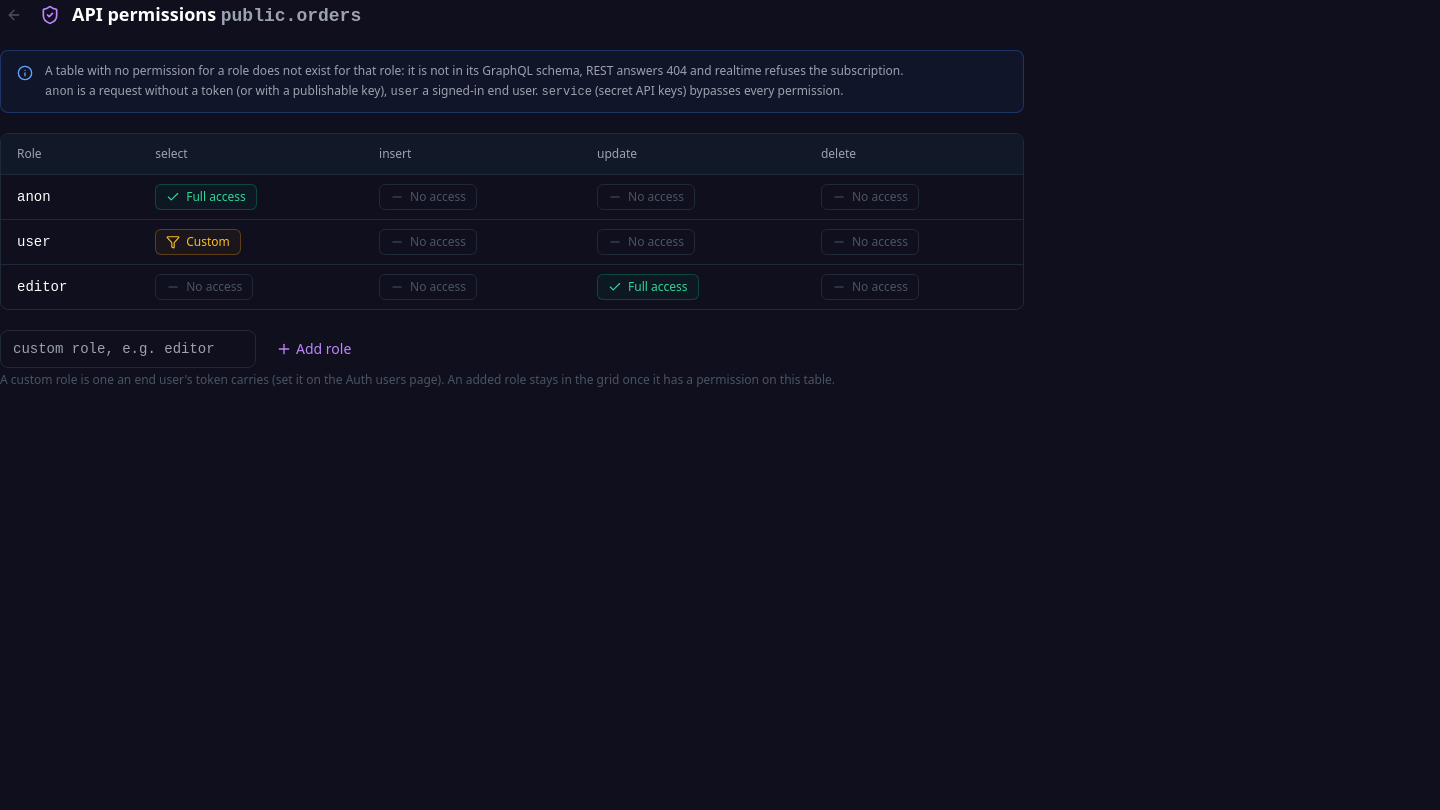
TablePermissionsPage editor › select needs at least one column
This screenshot has width=1440, height=810.
Click the 1st button "Full access". click: [206, 197]
box: 155,184 -> 257,210
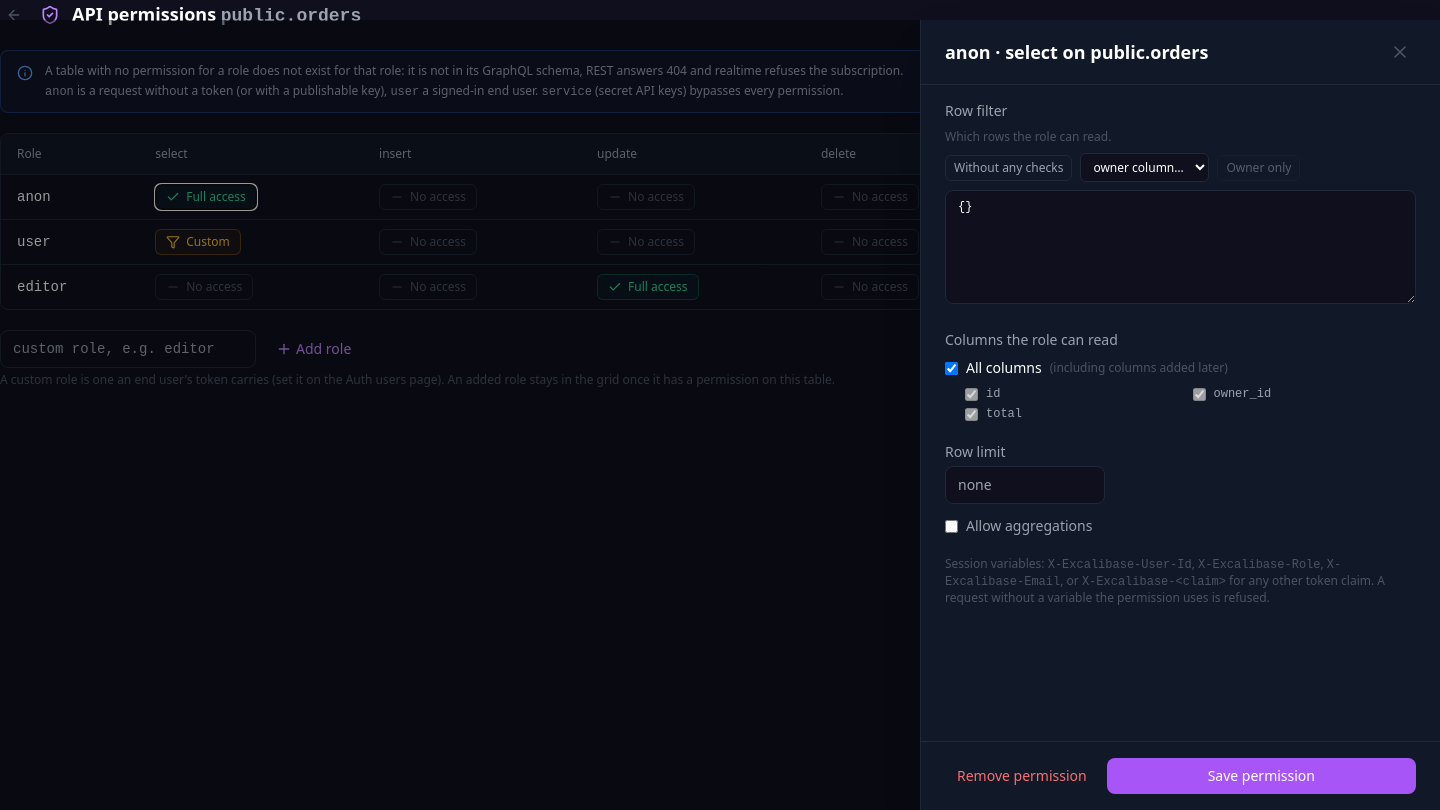
Now the checkbox labelled "All columns" is checked
Now the checkbox labelled "id" is disabled, box 965,388 -> 978,400
Click the checkbox labelled "All columns". click: [952, 368]
box: 945,362 -> 958,374
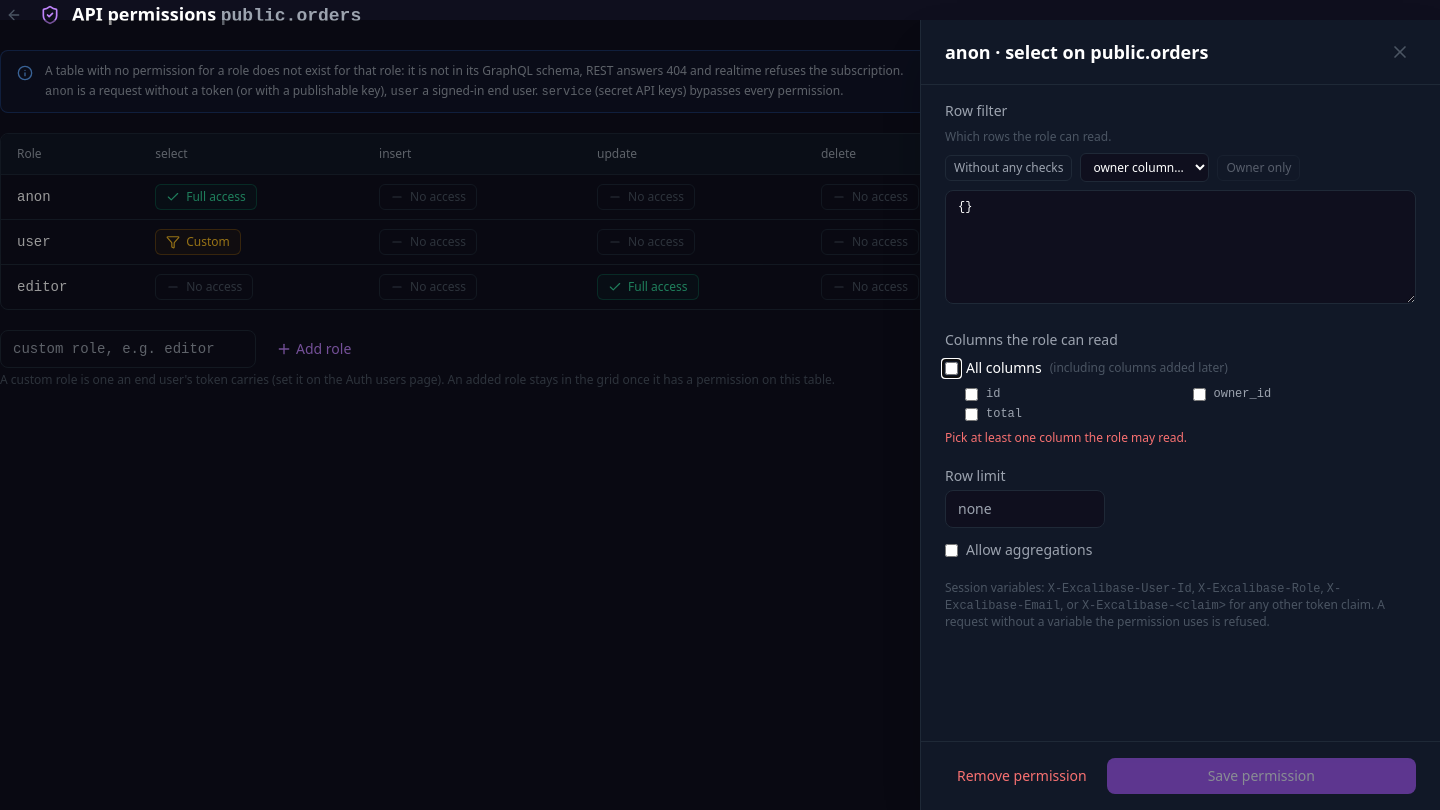
Now the text with test id "columns-error" shows "at least one column", box 945,429 -> 1187,446
Now the button "Save permission" is disabled, box 1107,758 -> 1416,794
